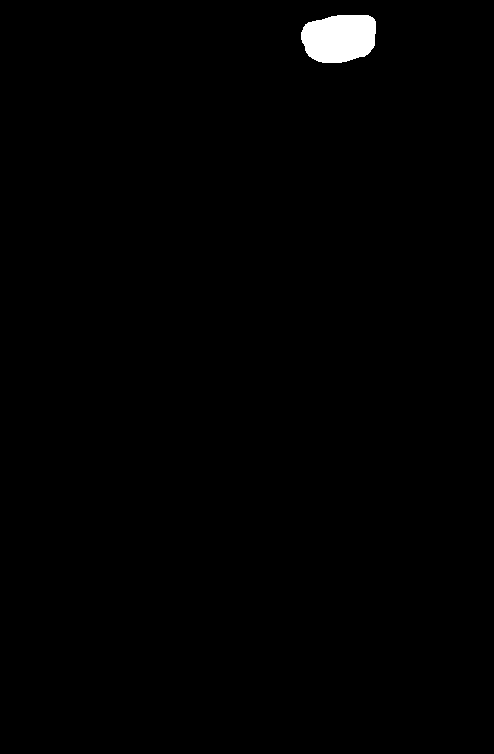veins_detect: (292, 10, 390, 68)
veins_seg: (301, 16, 375, 63)
